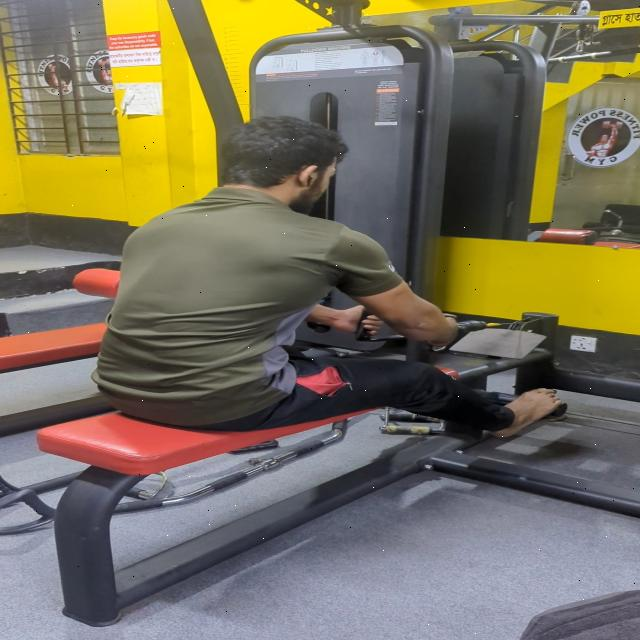Normal_RowingMachineExercise: (0, 111, 640, 515)
